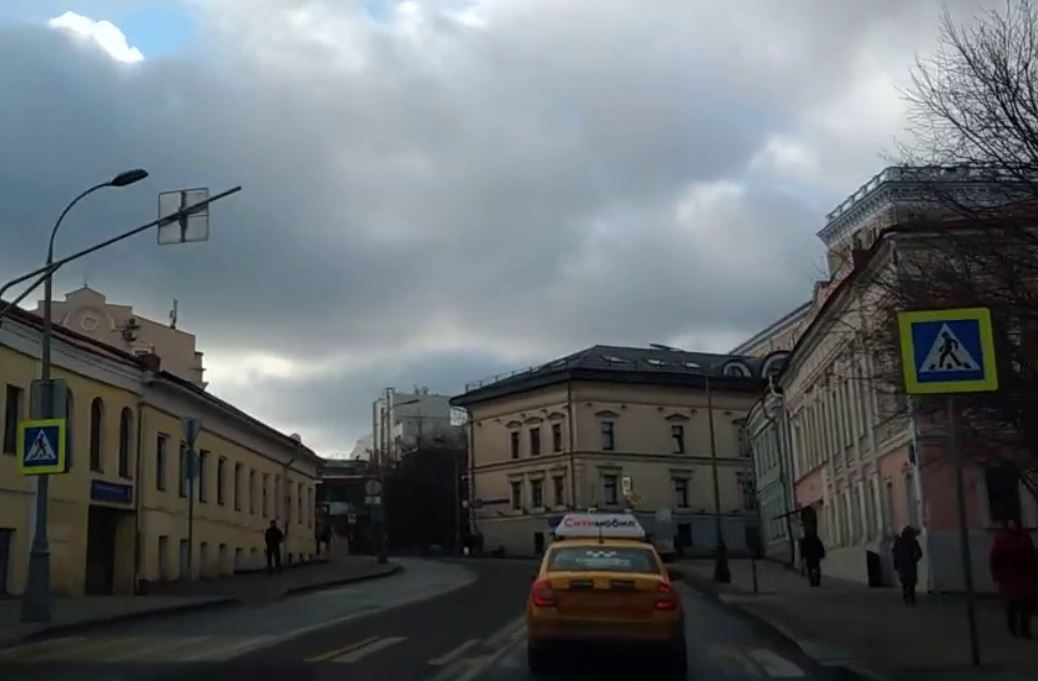Yaya Gecidi: (914, 323, 988, 377), (17, 428, 61, 470)
